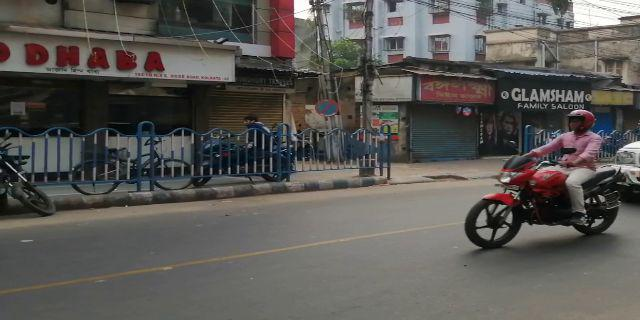Motorbike: (468, 106, 623, 250)
